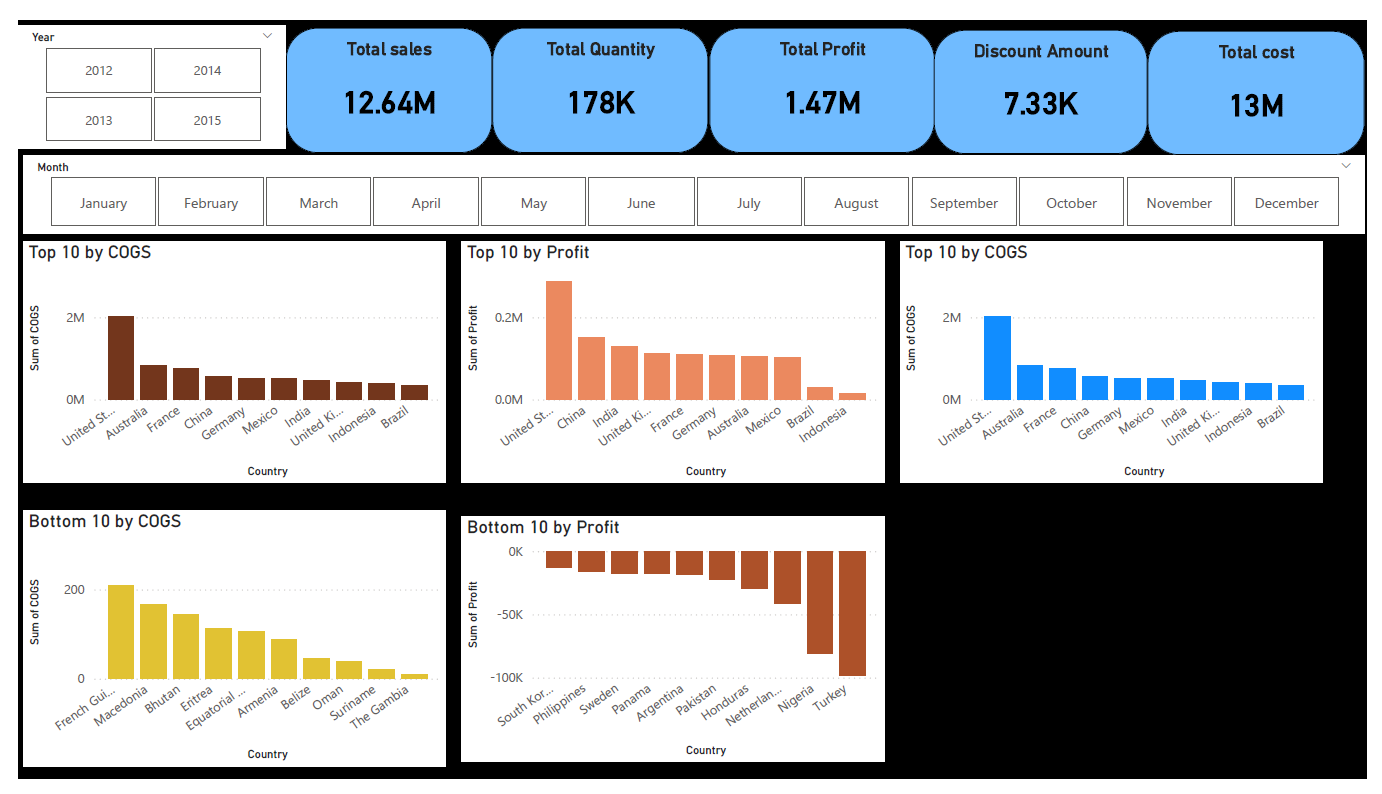

Layout of this report page (visuals, bound fields, positions):
{"tool":"powerbi","page":{"name":"Country","canvas":[1280,720],"ordinal":1},"visuals":[{"type":"card","title":"Total sales","fields":{"Values":["Sum(Orders.Sales)"]},"box":[254.3,7.3,195.7,118.6],"z":0},{"type":"card","title":"Total Quantity","fields":{"Values":["Sum(Orders.Quantity)"]},"box":[450,7.3,205.4,118.6],"z":1000},{"type":"card","title":"Total Profit","fields":{"Values":["Sum(Orders.Profit)"]},"box":[655.9,6.9,214.1,119.4],"z":2000},{"type":"card","title":"Discount Amount","fields":{"Values":["Sum(Orders.Discount)"]},"box":[869.4,8.6,203,118.6],"z":3000},{"type":"card","title":"Total cost","fields":{"Values":["Sum(Orders.Total cost)"]},"box":[1072.4,9.8,205.4,118.6],"z":4000},{"type":"slicer","fields":{"Values":["Orders.Order Date.Variation.Date Hierarchy.Year"]},"box":[0,5.5,253.9,116.6],"z":5000},{"type":"slicer","fields":{"Values":["Orders.Order Date.Variation.Date Hierarchy.Month"]},"box":[4.9,128.4,1273,73.4],"z":6000},{"type":"clusteredColumnChart","title":"Top 10 by COGS","fields":{"Category":["Orders.Country"],"Y":["Sum(Orders.COGS)"]},"box":[5.5,209.9,400.7,229.2],"z":6001},{"type":"clusteredColumnChart","title":"Bottom 10 by COGS","fields":{"Category":["Orders.Country"],"Y":["Sum(Orders.COGS)"]},"box":[5.5,465.2,400.7,242.9],"z":6002},{"type":"clusteredColumnChart","title":"Top 10 by Profit","fields":{"Category":["Orders.Country"],"Y":["Sum(Orders.Profit)"]},"box":[421.3,209.9,400.7,229.2],"z":6003},{"type":"clusteredColumnChart","title":"Bottom 10 by Profit","fields":{"Category":["Orders.Country"],"Y":["Sum(Orders.Profit)"]},"box":[421.3,470.7,400.7,233.3],"z":6005},{"type":"clusteredColumnChart","title":"Top 10 by COGS","fields":{"Category":["Orders.Country"],"Y":["Sum(Orders.COGS)"]},"box":[837.1,209.9,400.7,229.2],"z":6006}]}

Visuals, with their boxes in screenshot pixels (x1, y1, x2, y2), scaled from the page's 1280x720 canvas onto the 1382x794 screenshot:
"Total sales" card: box(275, 8, 486, 139)
"Total Quantity" card: box(486, 8, 708, 139)
"Total Profit" card: box(708, 8, 939, 139)
"Discount Amount" card: box(939, 9, 1158, 140)
"Total cost" card: box(1158, 11, 1380, 142)
slicer - Orders.Order Date.Variation.Date Hierarchy.Year: box(0, 6, 274, 135)
slicer - Orders.Order Date.Variation.Date Hierarchy.Month: box(5, 142, 1380, 223)
"Top 10 by COGS" clusteredColumnChart: box(6, 231, 439, 484)
"Bottom 10 by COGS" clusteredColumnChart: box(6, 513, 439, 781)
"Top 10 by Profit" clusteredColumnChart: box(455, 231, 888, 484)
"Bottom 10 by Profit" clusteredColumnChart: box(455, 519, 888, 776)
"Top 10 by COGS" clusteredColumnChart: box(904, 231, 1336, 484)
